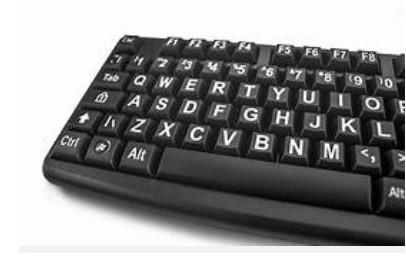Keyboard: (40, 35, 406, 245)
